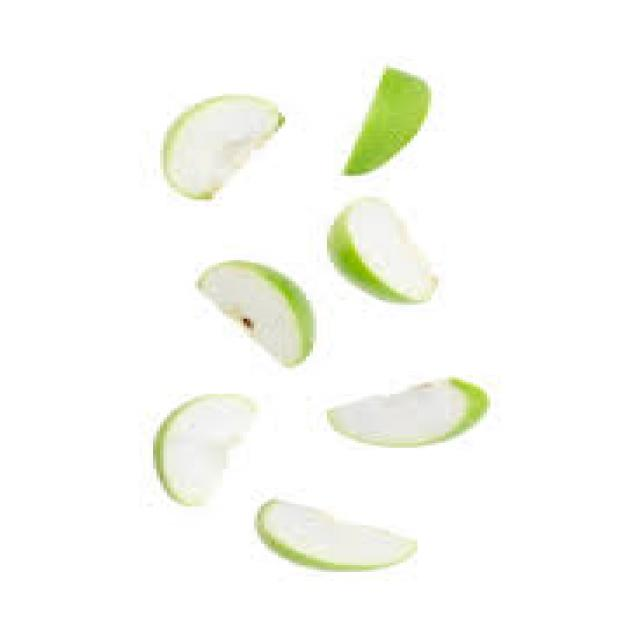Apple: (198, 254, 316, 379), (247, 493, 430, 572), (163, 93, 287, 206), (322, 371, 489, 453), (152, 385, 256, 510), (322, 199, 438, 307), (341, 66, 430, 188)
